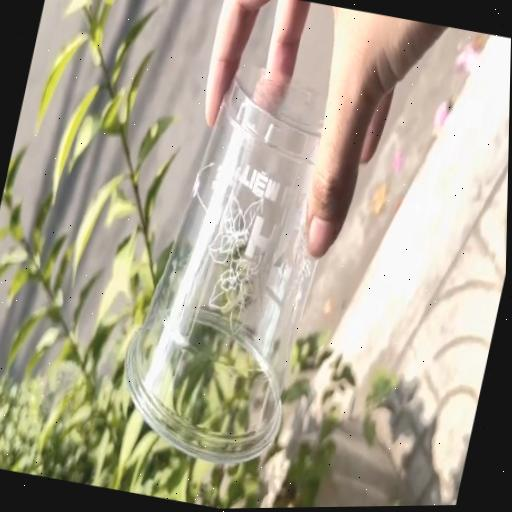ly_giay: (125, 70, 326, 463)
